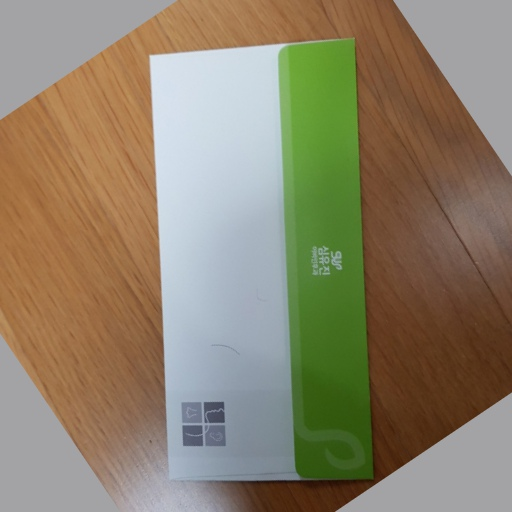Paper_2: (140, 38, 385, 497)
